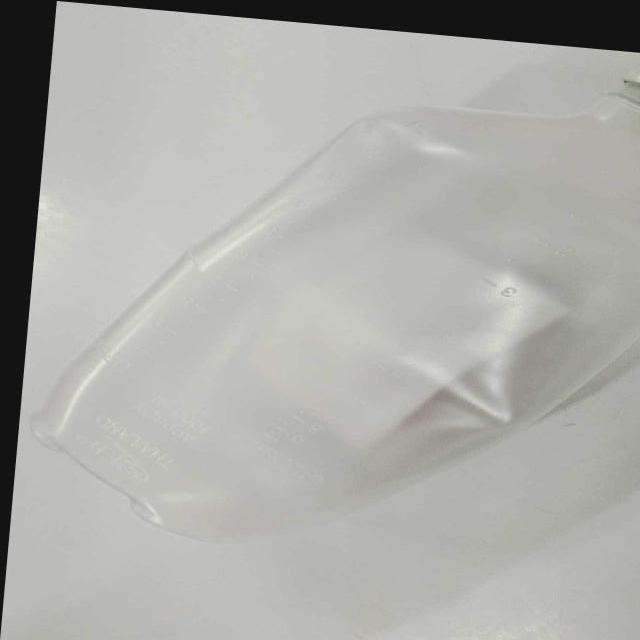Infectious: (28, 89, 638, 544)
